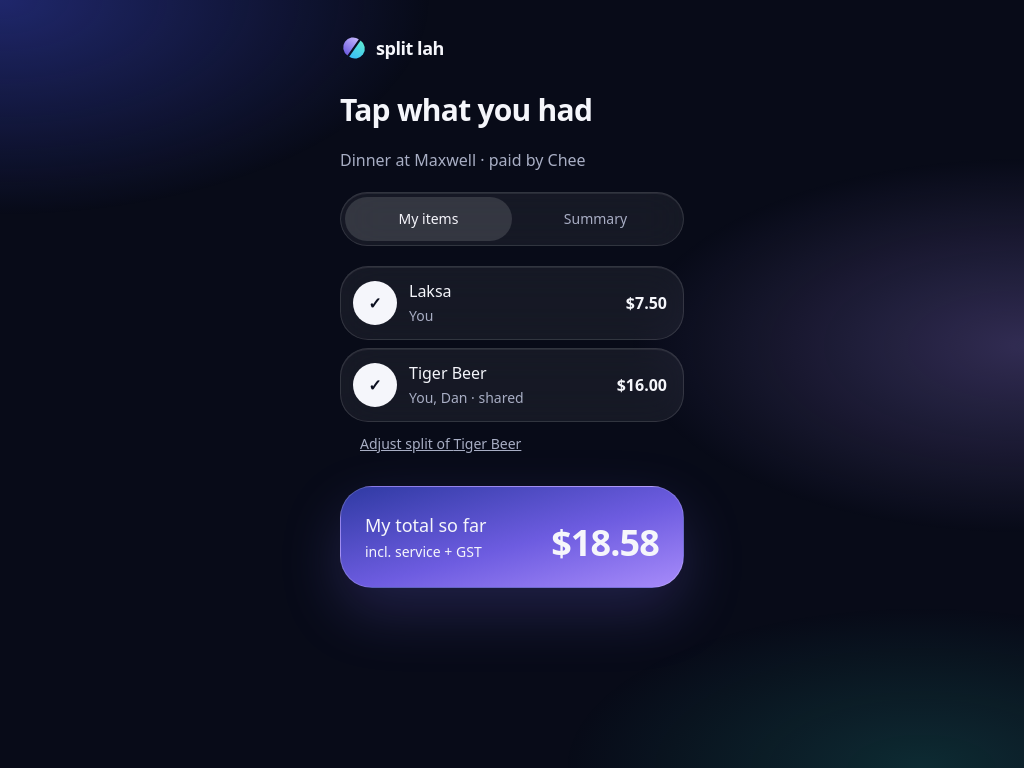
it: Adjust split › 70 / 30: can't be saved until it adds up to 100%, then sends basis points
Click the button "Adjust split of Tiger Beer": (441, 444) [340, 422, 541, 466]
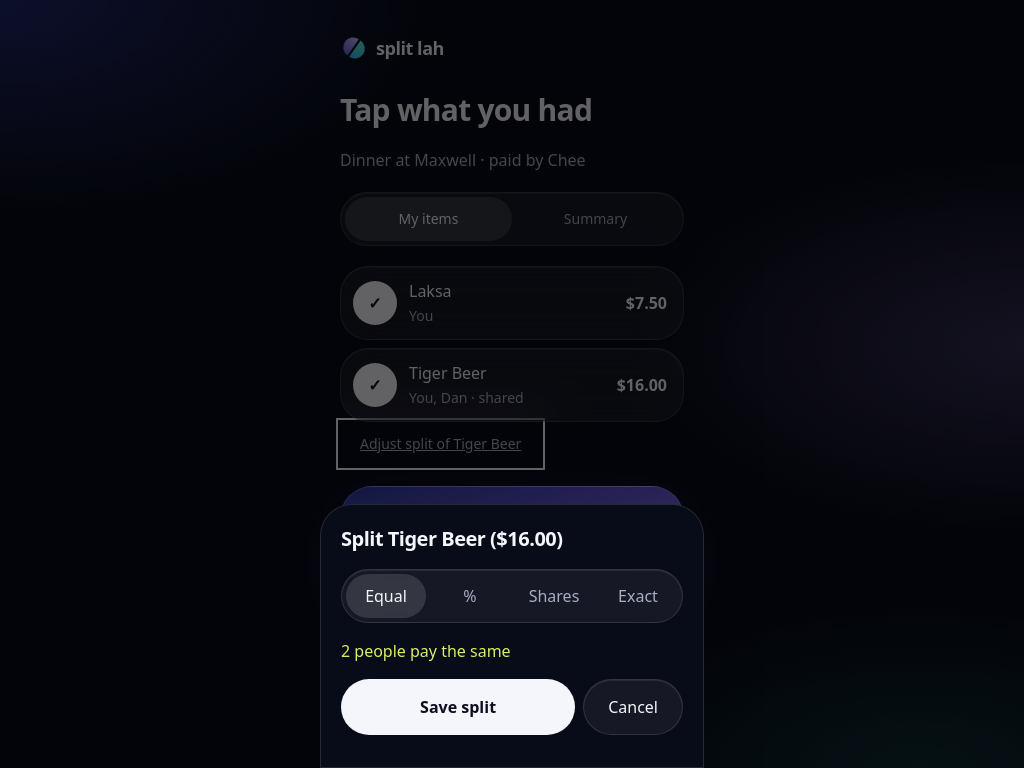
Result: the heading "Split Tiger Beer ($16.00)" is shown at [341, 525, 562, 552]
Result: the message reads "2 people pay the same" at [341, 640, 511, 662]
Click the button "%": (470, 596) [430, 574, 510, 618]
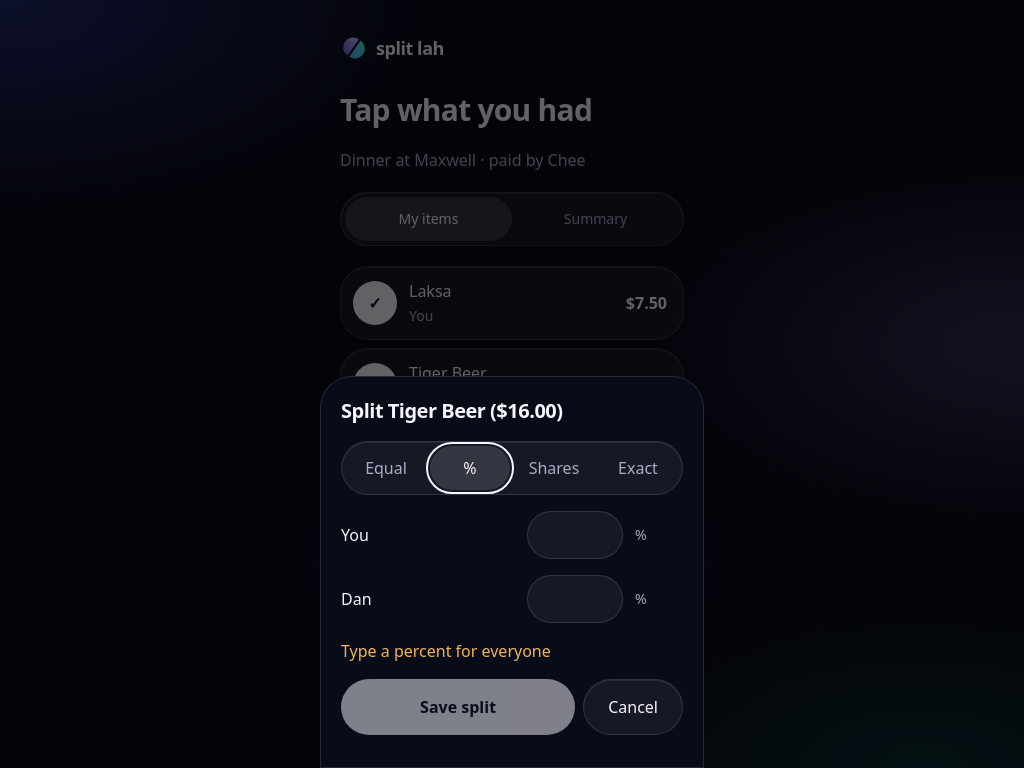
Result: the button "Save split" is disabled at [341, 679, 575, 735]
In the field labelled "You %": (575, 535) [527, 511, 623, 559], type "60"
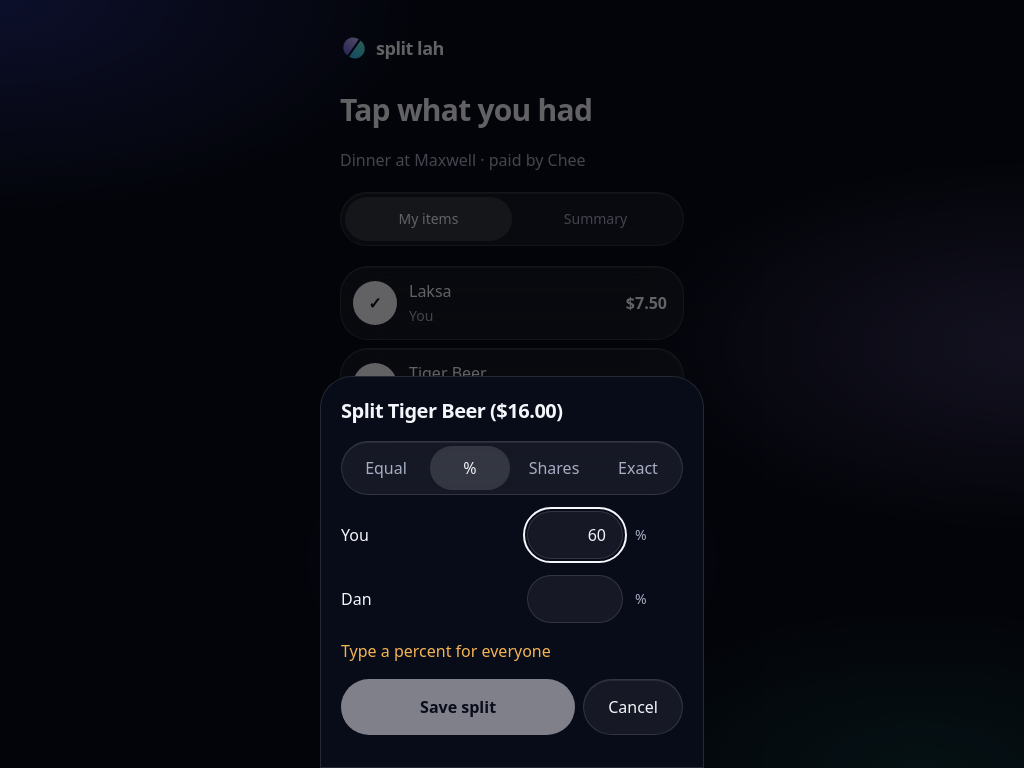
In the field labelled "Dan %": (575, 599) [527, 575, 623, 623], type "30"
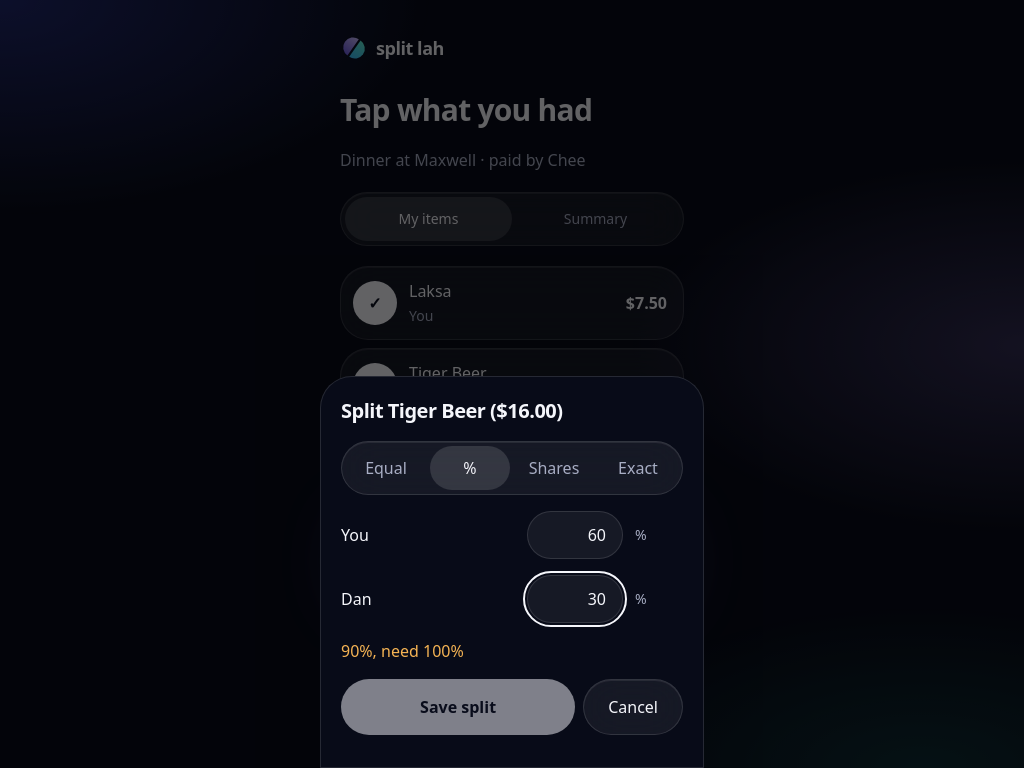
Result: the button "Save split" is disabled at [341, 679, 575, 735]
Result: the message reads "90%, need 100%" at [341, 640, 464, 662]
Replace the text in the field labelled "You %" with "70": (575, 535) [527, 511, 623, 559]
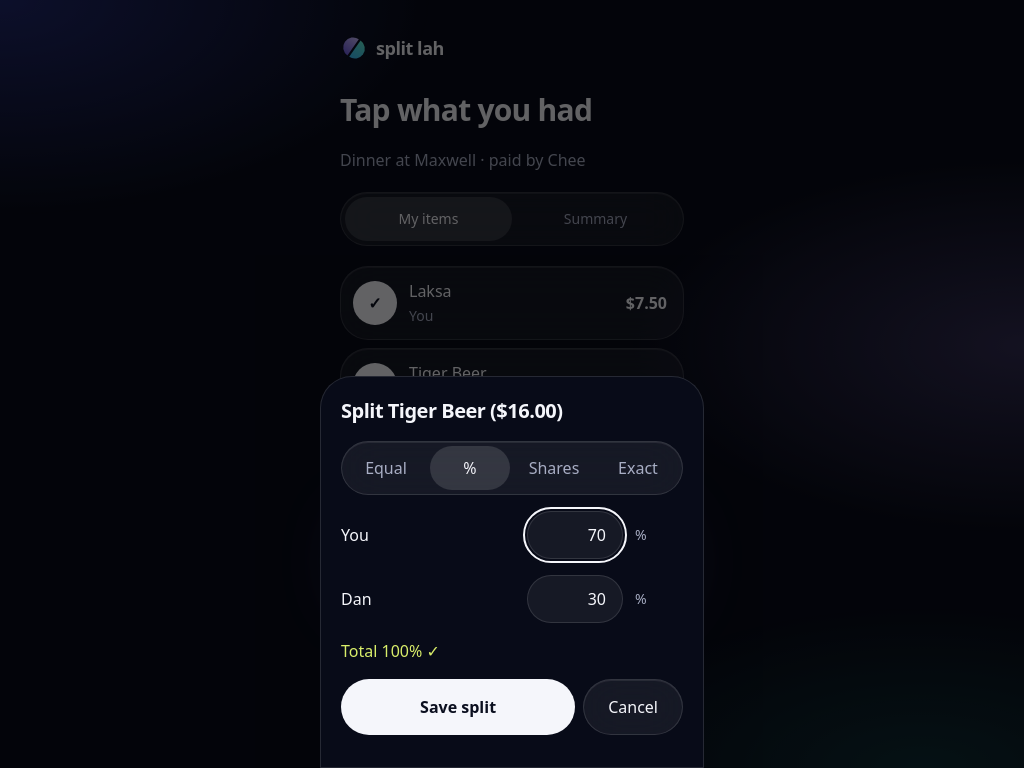
Result: the message reads "Total 100% ✓" at [341, 640, 440, 662]
Click the button "Save split": (458, 707) [341, 679, 575, 735]
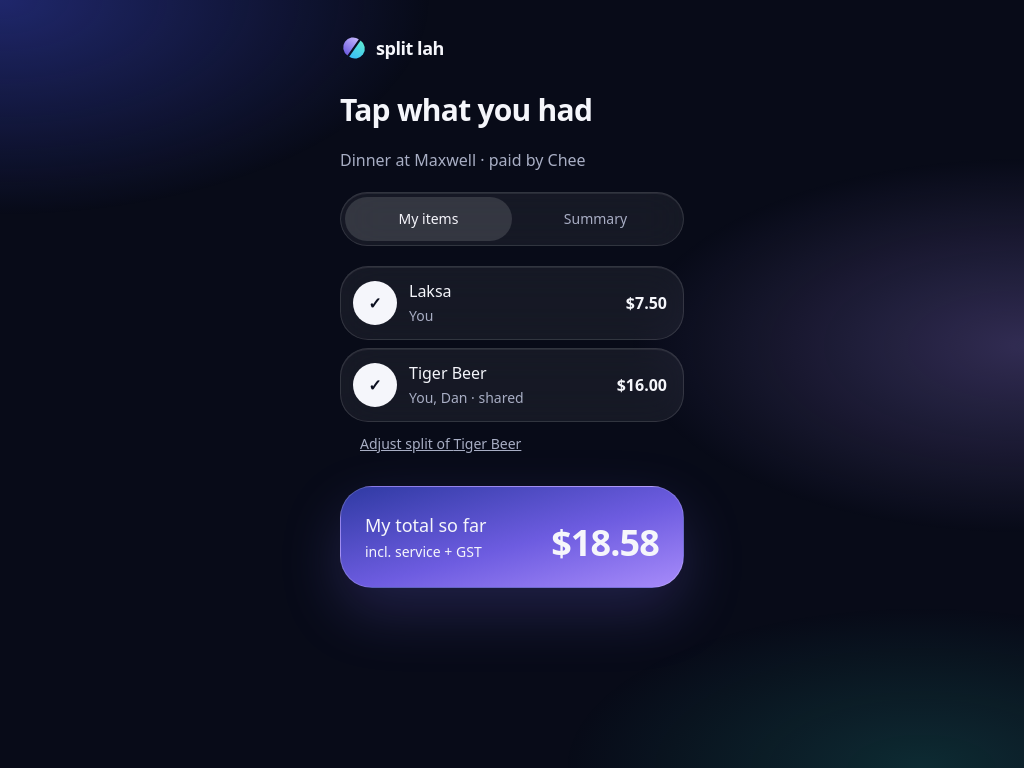
Result: the dialog is gone
